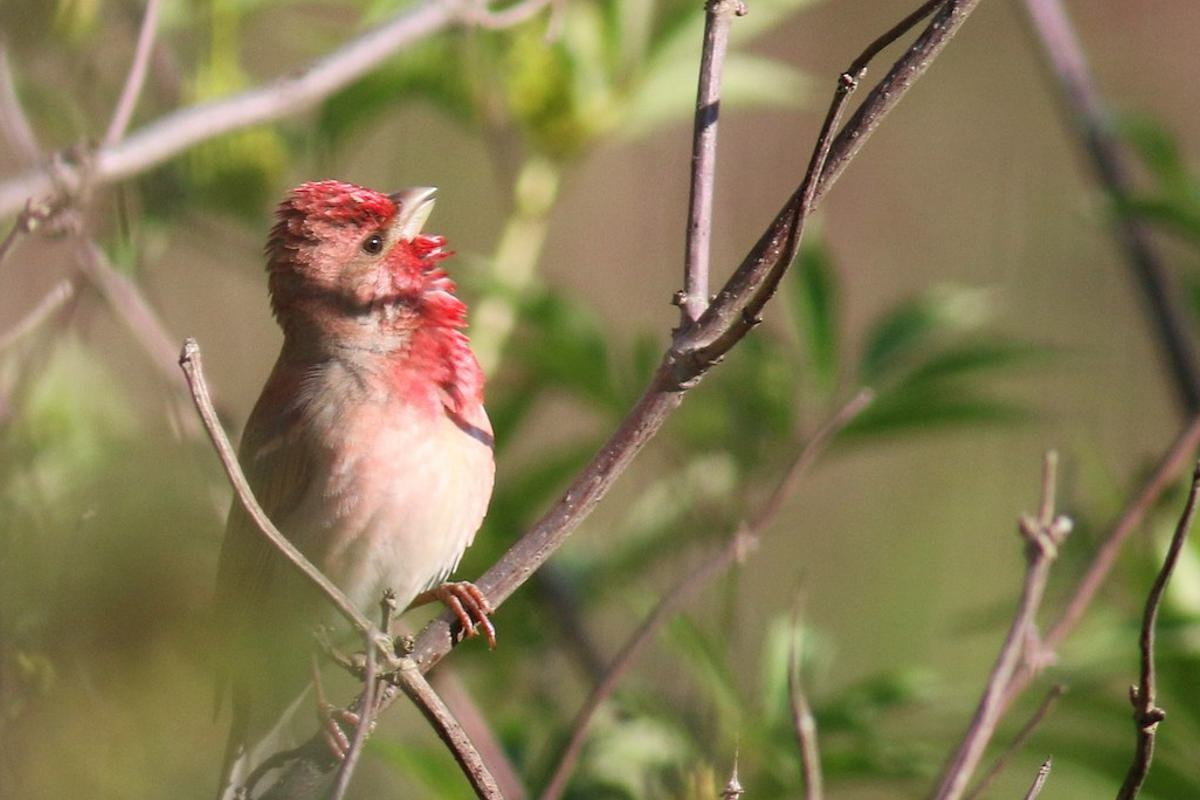rosefinch: (237, 135, 550, 710)
